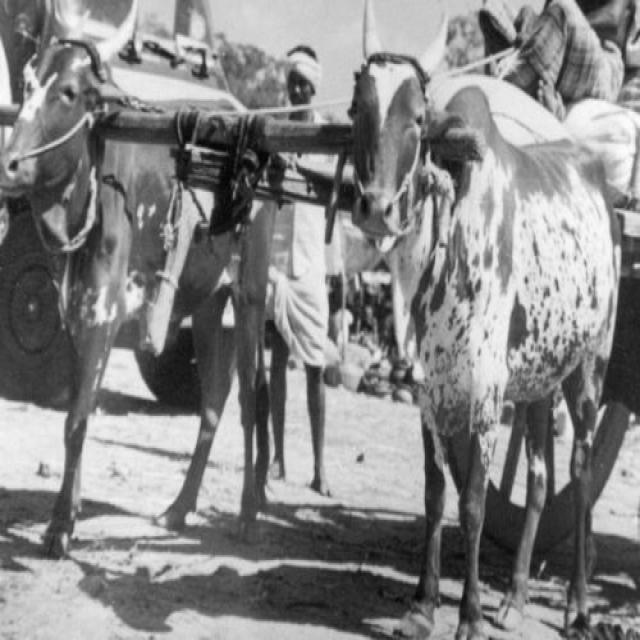Cow: (310, 56, 599, 580)
